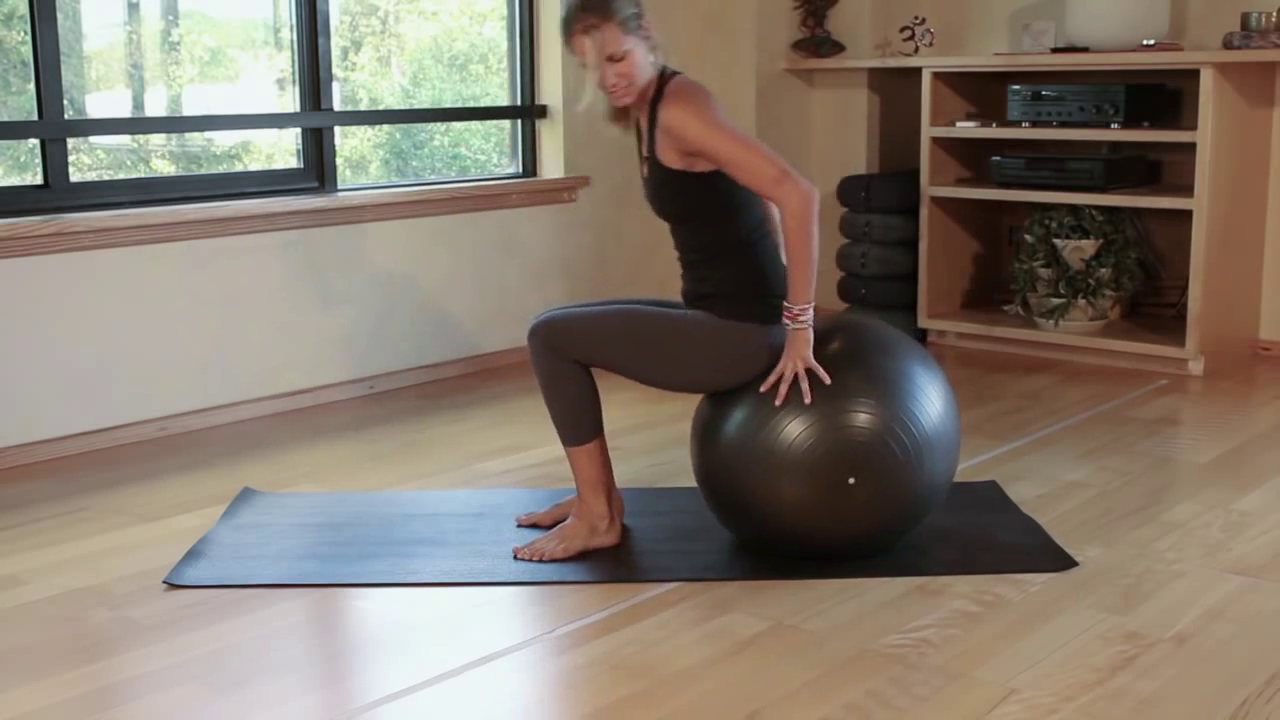yogaball: (685, 311, 966, 560)
